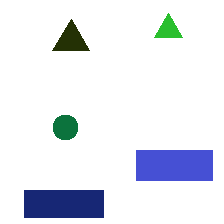circle: (53, 115, 77, 139)
rectangle: (136, 150, 212, 180), (24, 190, 103, 217)
triangle: (52, 19, 89, 50), (154, 13, 182, 37)
